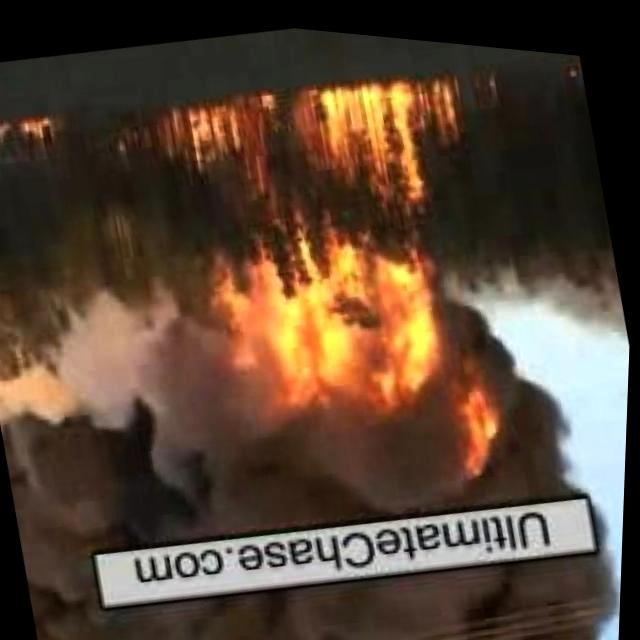fire: (128, 34, 472, 238), (211, 212, 457, 428), (439, 343, 517, 477), (0, 104, 66, 164)
